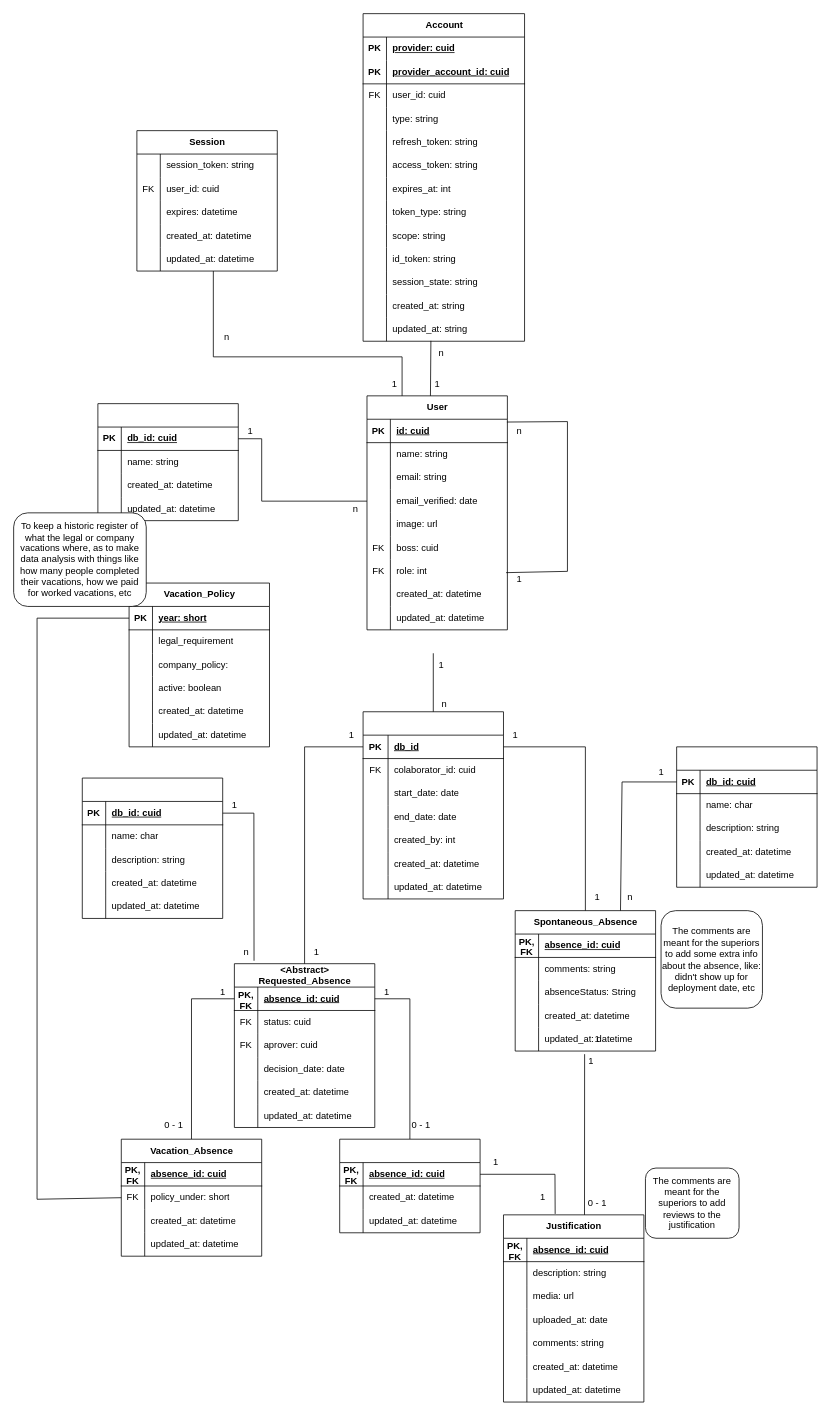
Image size: 831x1416. Some labels were removed from this diagram. Each missing label, with the box of its shape:
<Abstract> Absence: (362, 711, 503, 899)
Informal_Absence: (339, 1138, 480, 1233)
Request_Status: (82, 777, 223, 918)
Role: (97, 403, 238, 521)
Spontaneous_Absence_Status: (676, 746, 817, 887)
